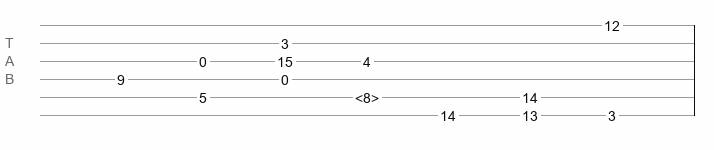0: (199, 54, 207, 64), (281, 72, 289, 82)
12: (604, 18, 620, 28)
13: (522, 108, 538, 118)
14: (440, 108, 456, 118), (522, 90, 538, 100)
15: (277, 54, 293, 64)
3: (281, 36, 289, 46), (608, 108, 616, 118)
4: (363, 54, 371, 64)
5: (199, 90, 207, 100)
9: (117, 72, 125, 82)
harmonic: (355, 90, 379, 100)
